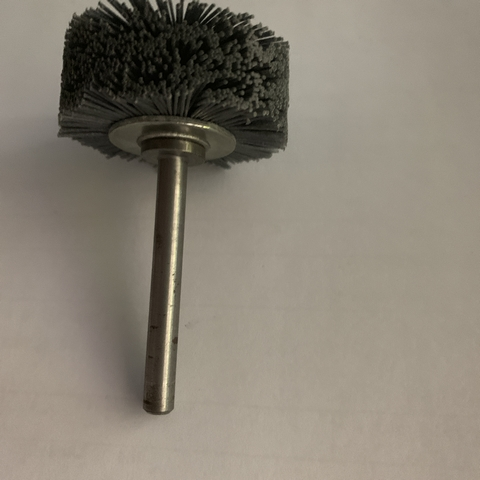Wheel Brush: (43, 1, 315, 438), (56, 13, 292, 429), (77, 1, 294, 418)
